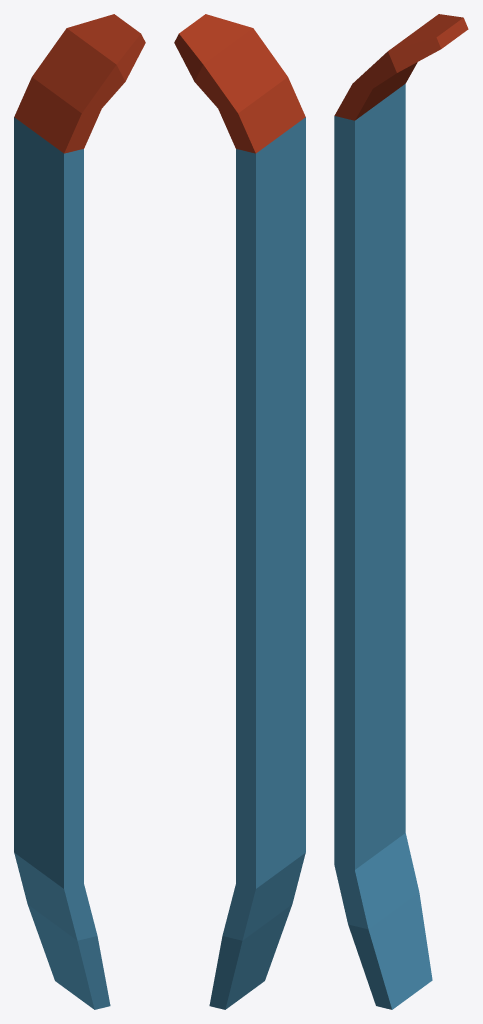
File: skiWeapon.fbx
3 renders of one model, left to right at view 1: azimuth 30°, elevation 25°; view 2: azimuth 150°, elevation 25°; view 3: azimuth 330°, elevation 25°, orthographic.
Parts seen in each view (by area): view 1: Ski; view 2: Ski; view 3: Ski.
Part boxes in pixels (bbox=[...]): Ski: bbox=[14, 14, 145, 1009]; Ski: bbox=[174, 14, 305, 1009]; Ski: bbox=[334, 14, 468, 1009].
Bounding box in the file's own units: 10.19 × 100 × 9.44.
